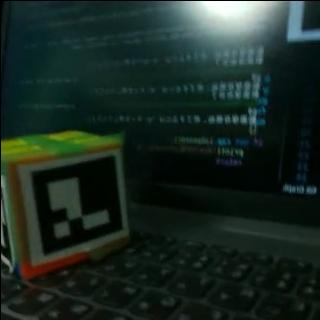armor: (15, 147, 126, 266)
robot: (0, 128, 129, 278)
